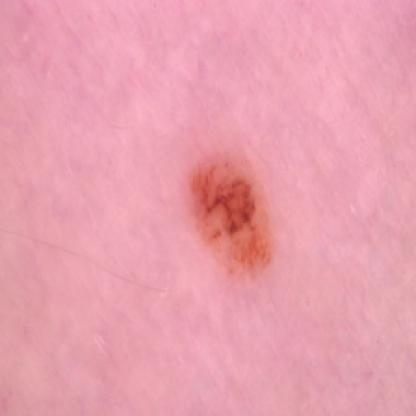benign: (188, 143, 269, 286)
